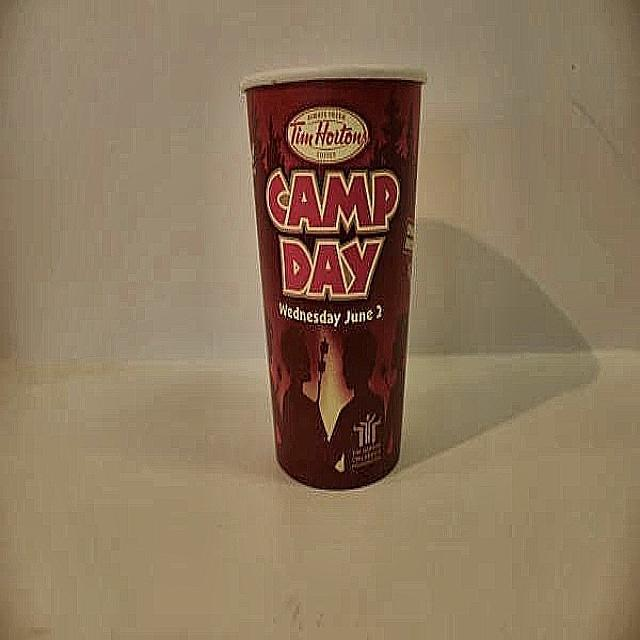timmies: (237, 62, 428, 492)
